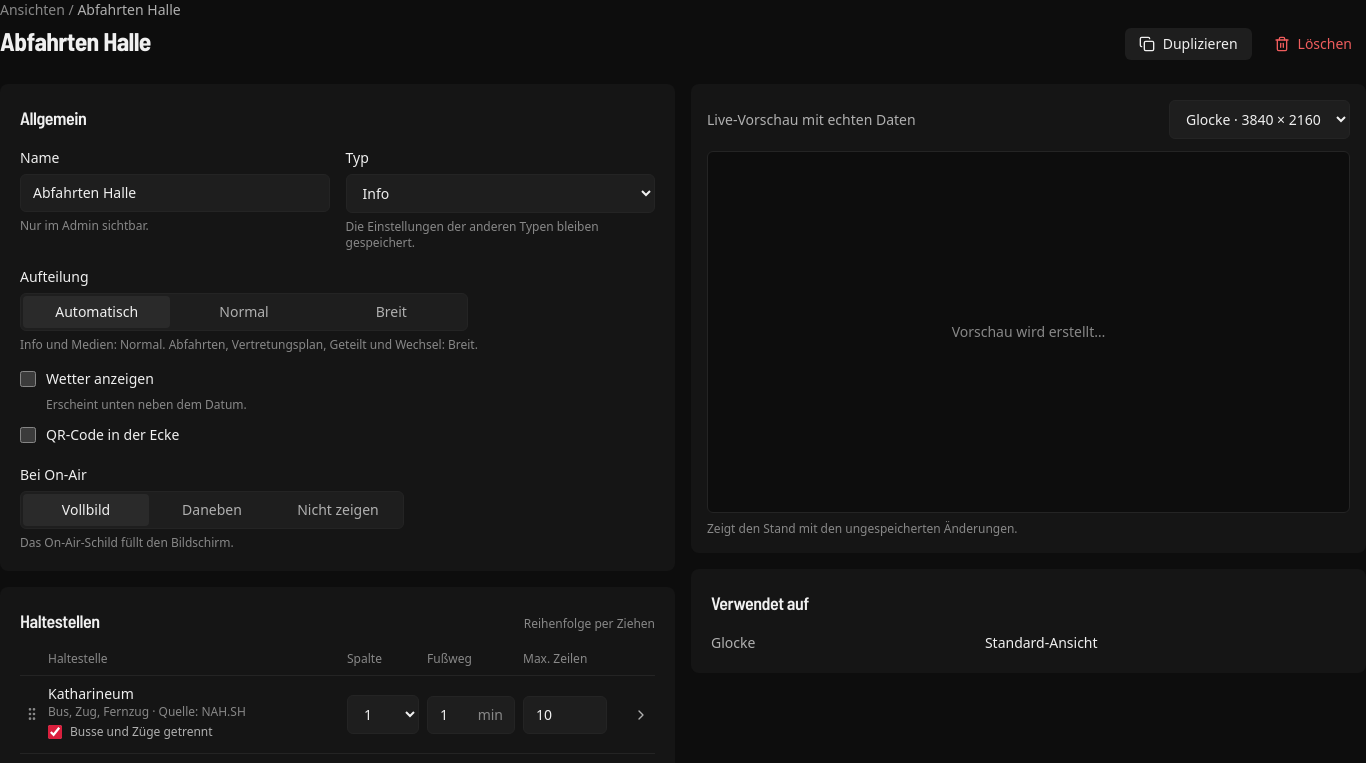
Test case: ViewEdit › Typ ändern › fragt bei einem Bildschirm vor dem Speichern nach
This screenshot has width=1366, height=763.
Select "Info" in the dropdown named "Typ": (500, 194) x1=346 y1=174 x2=655 y2=213
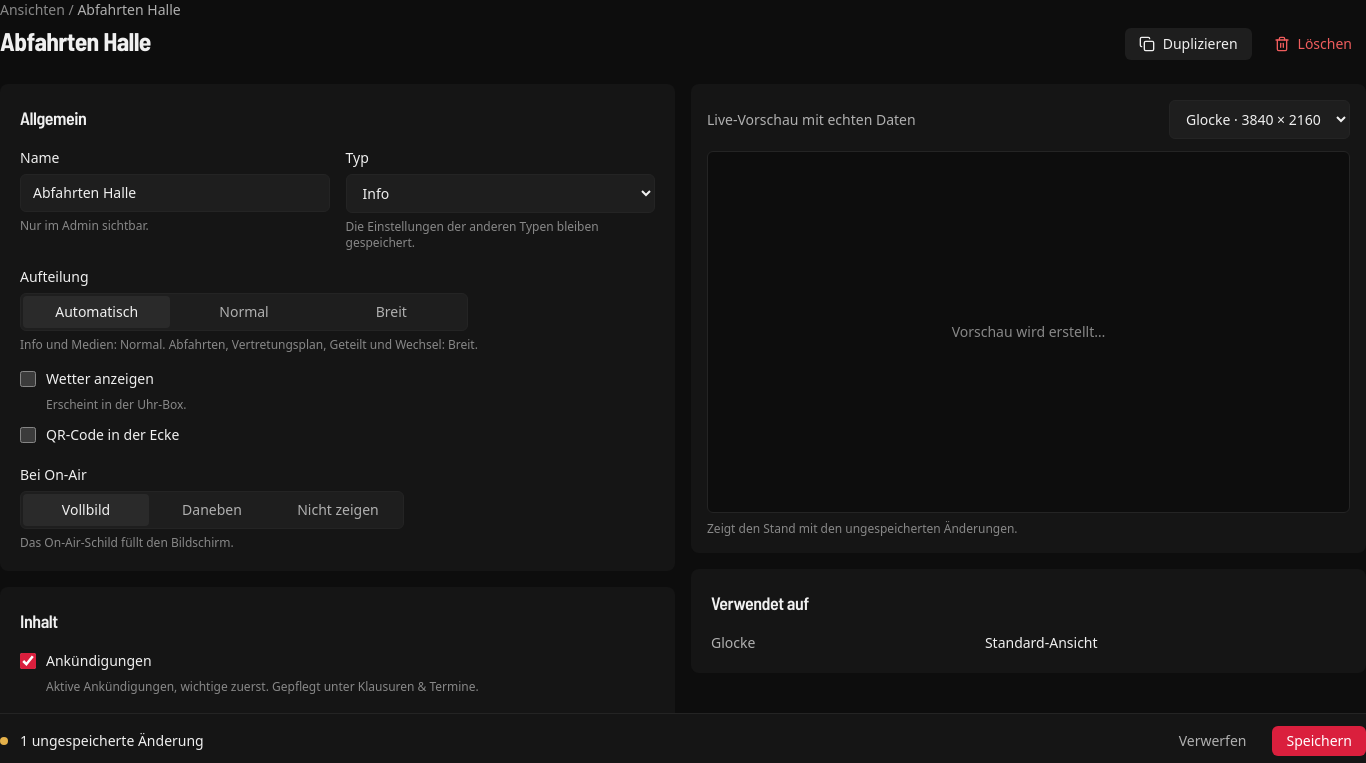
Click the button "Speichern": click(1319, 741) x1=1272 y1=726 x2=1365 y2=756
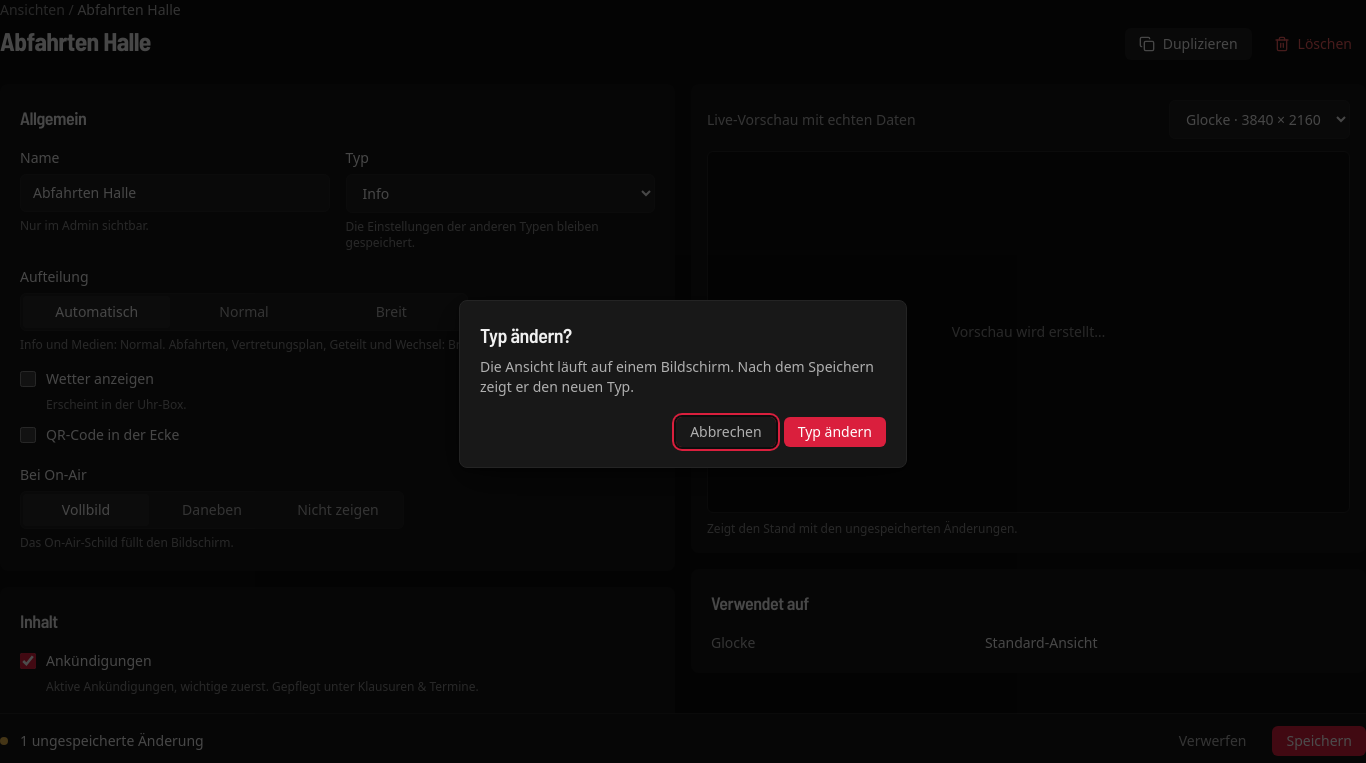
Now the dialog shows "Die Ansicht läuft auf einem Bildschirm. Nach dem Speichern zeigt er den neuen Typ.", box x1=480 y1=357 x2=874 y2=396
Click the button "Abbrechen": click(726, 432) x1=676 y1=417 x2=776 y2=447
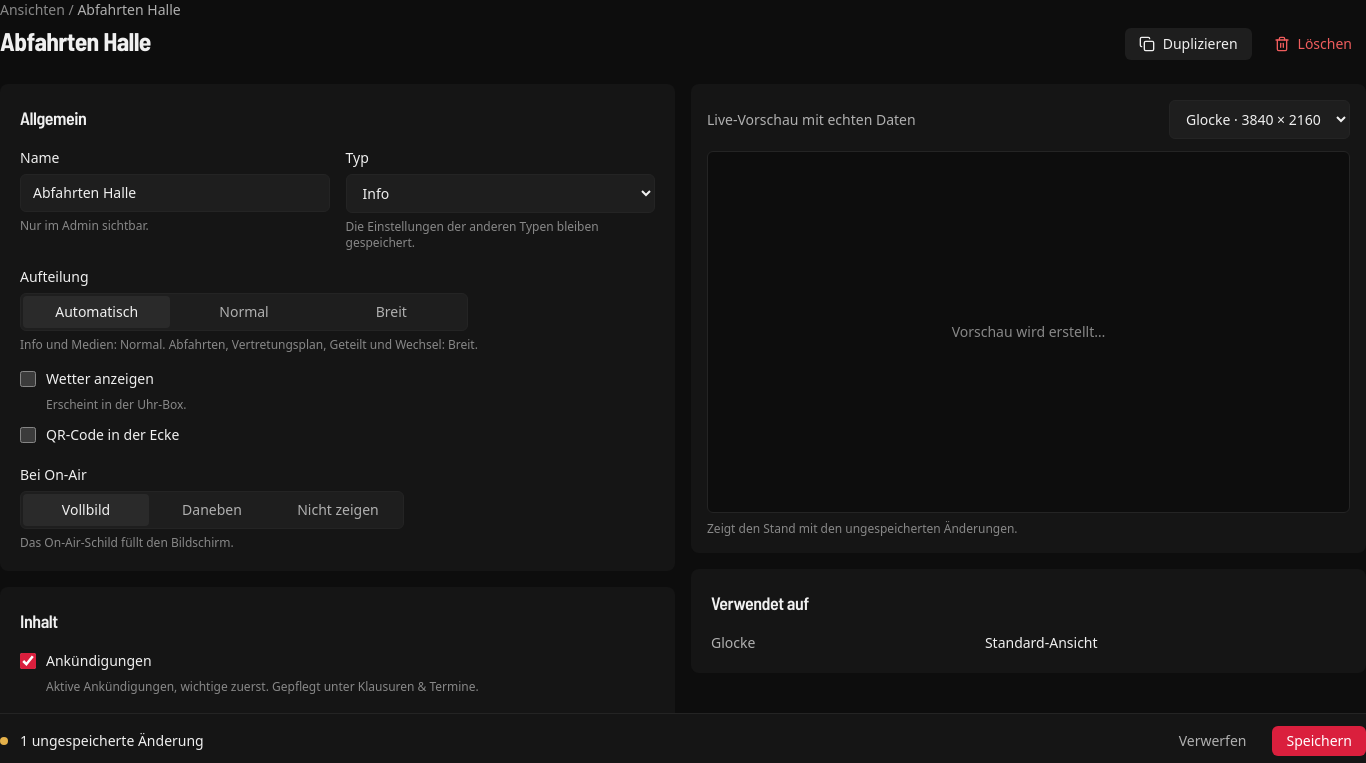
Click the button "Speichern": click(1319, 741) x1=1272 y1=726 x2=1365 y2=756
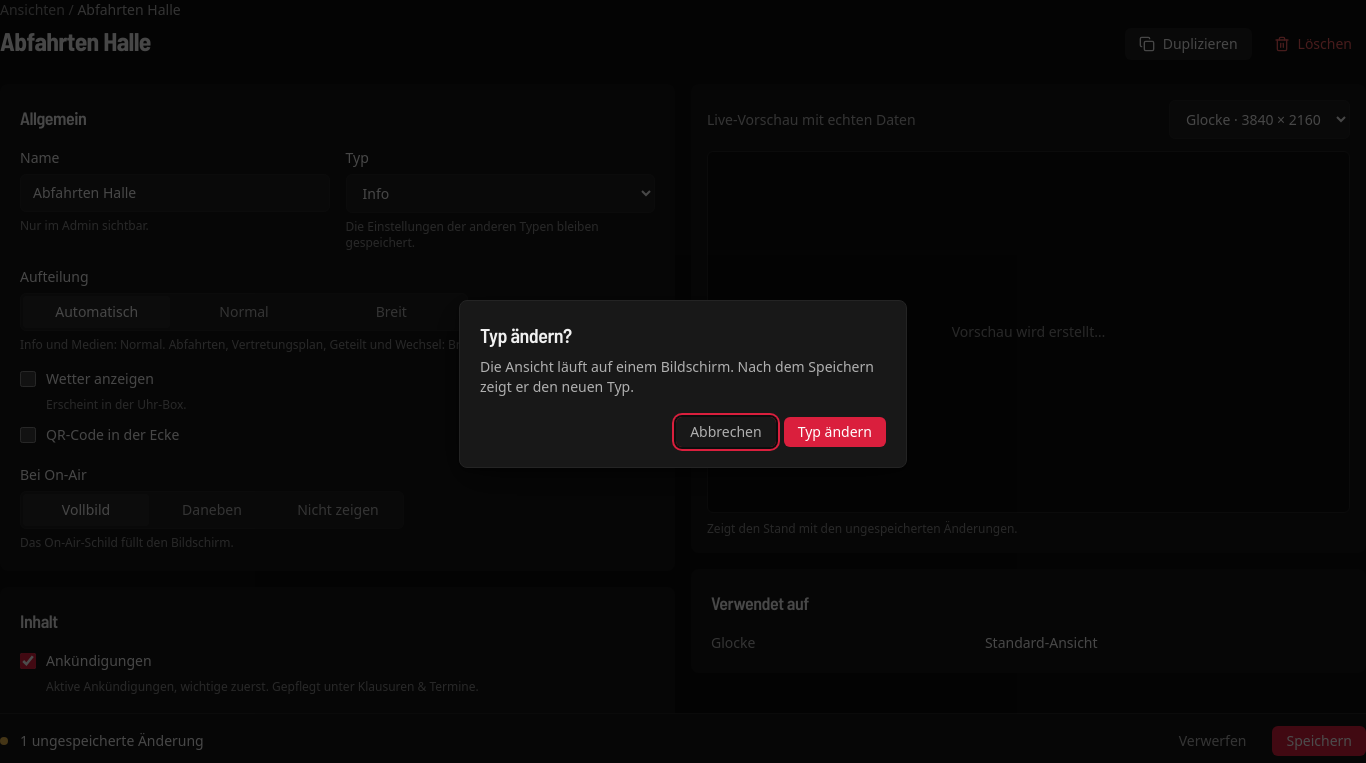
Click the button "Typ ändern": click(835, 432) x1=784 y1=417 x2=886 y2=447
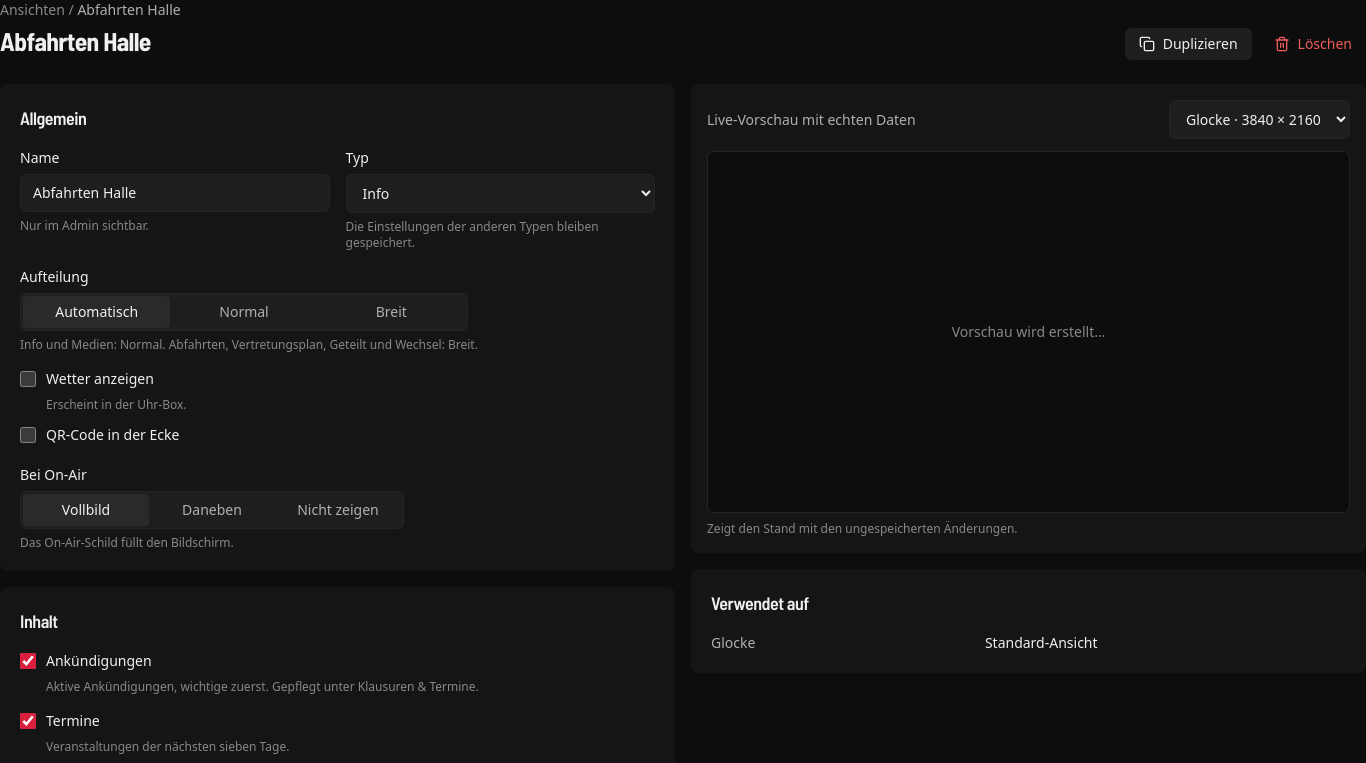
Now the dialog is gone
